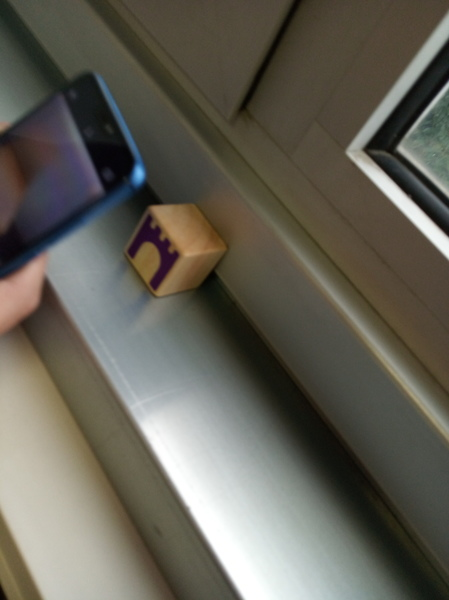violet: (131, 209, 203, 295)
